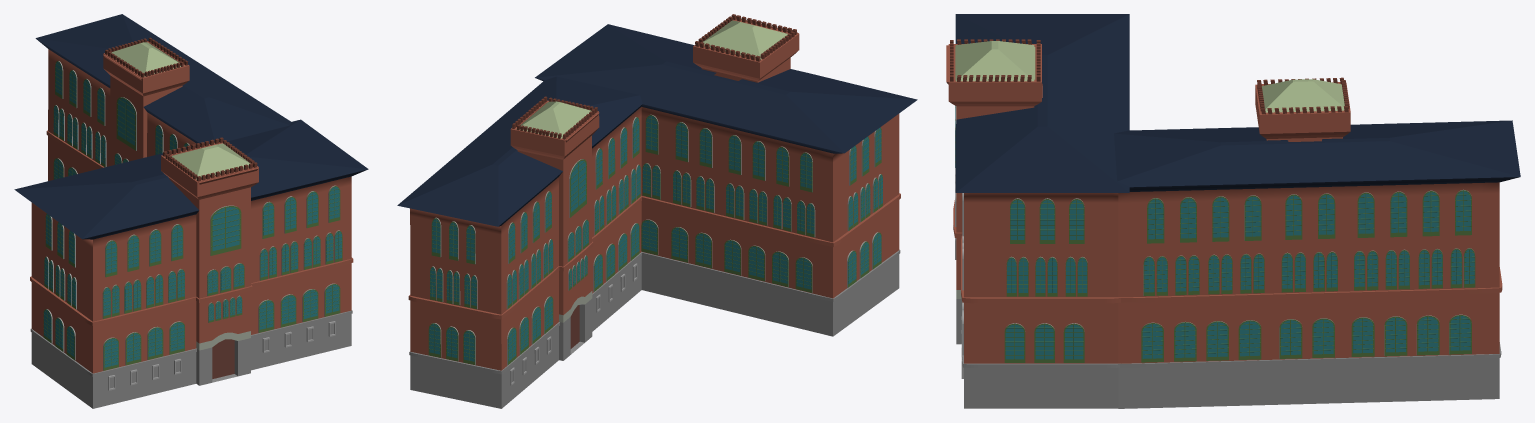
Rendered from Gamla riksarkivet.fbx.
3 renders of one model, left to right at view 1: azimuth 30°, elevation 25°; view 2: azimuth 150°, elevation 25°; view 3: azimuth 270°, elevation 25°, orthographic. The views are drawn at different scales.
Visible parts, largest first — view 1: front1; view 2: front1; view 3: front1.
Part boxes in pixels (x1,y1,x2,y2): front1: (14,14,368,408); front1: (397,14,917,408); front1: (946,14,1520,408).
Bounding box in the file's own units: 457 × 337 × 620.
